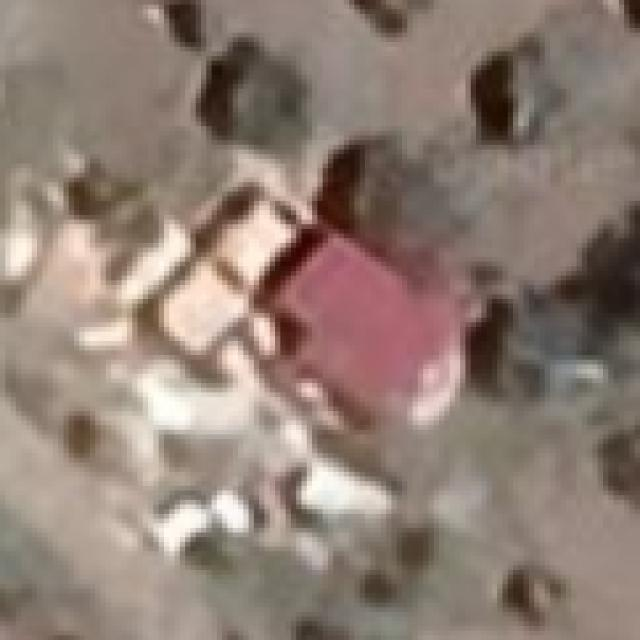Batiment: (272, 235, 461, 428)
